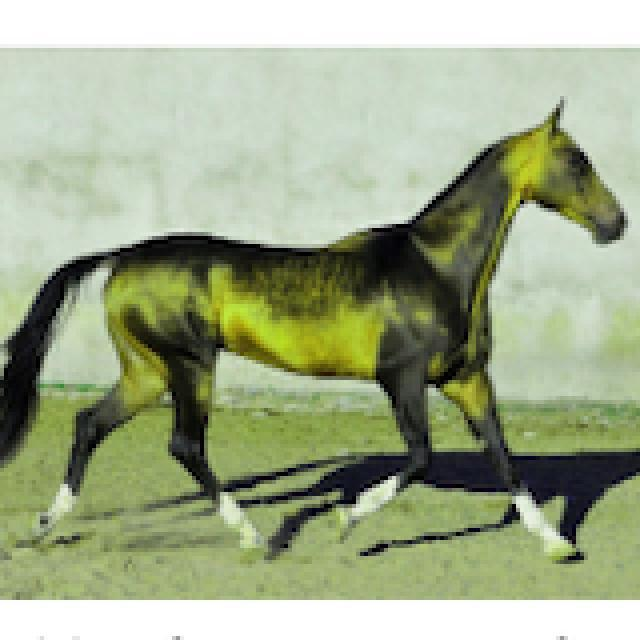Horse: (4, 88, 640, 568)
